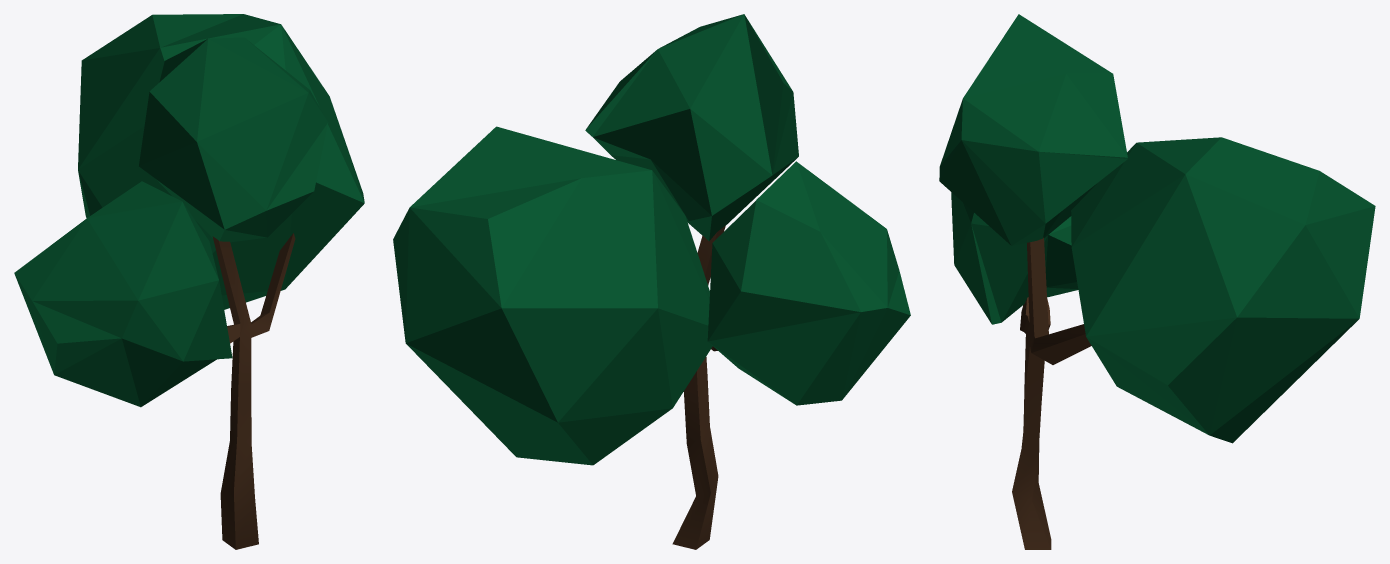
Rendered from Deci_Tree_10.fbx.
The picture shows the model from 3 angles, left to right: view 1: azimuth 30°, elevation 25°; view 2: azimuth 150°, elevation 25°; view 3: azimuth 270°, elevation 25°; orthographic projection. The views are drawn at different scales.
Parts seen in each view (by area): view 1: Tree10_Canopy002, Tree10_Canopy001, Tree10_Canopy000, Tree010; view 2: Tree10_Canopy000, Tree10_Canopy002, Tree10_Canopy001, Tree010; view 3: Tree10_Canopy000, Tree10_Canopy001, Tree010, Tree10_Canopy002.
Boxes of the visible parts, <box> form: Tree10_Canopy002: <box>14,181,232,407</box>; Tree10_Canopy001: <box>139,37,328,242</box>; Tree10_Canopy000: <box>78,14,364,309</box>; Tree010: <box>212,233,295,549</box>; Tree10_Canopy000: <box>393,126,712,465</box>; Tree10_Canopy002: <box>707,161,910,405</box>; Tree10_Canopy001: <box>585,14,798,241</box>; Tree010: <box>672,225,725,549</box>; Tree10_Canopy000: <box>1071,137,1375,443</box>; Tree10_Canopy001: <box>939,14,1127,245</box>; Tree010: <box>1012,237,1091,549</box>; Tree10_Canopy002: <box>951,192,1078,324</box>.
Size of the model in its own units: 199 by 253 by 196.
